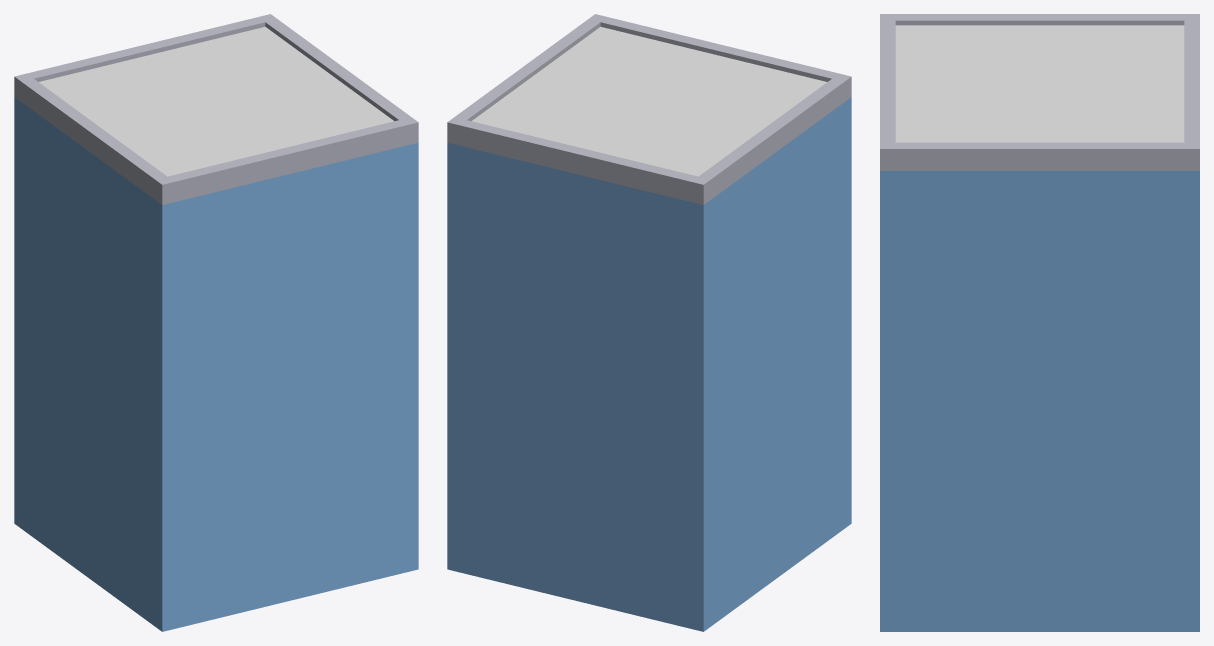
Rendered from SM_Building_30x50.fbx.
3 views of the same model, side by side, from view 1: azimuth 30°, elevation 25°; view 2: azimuth 150°, elevation 25°; view 3: azimuth 270°, elevation 25° (orthographic). The views are drawn at different scales.
Parts seen in each view (by area): view 1: Building_30x50; view 2: Building_30x50; view 3: Building_30x50.
Boxes of the visible parts, box(x1,y1,x2,y2) form: Building_30x50: box(14, 14, 418, 631); Building_30x50: box(447, 14, 851, 631); Building_30x50: box(880, 14, 1199, 631).
Size of the model in its own units: 3000 by 5000 by 3000.
